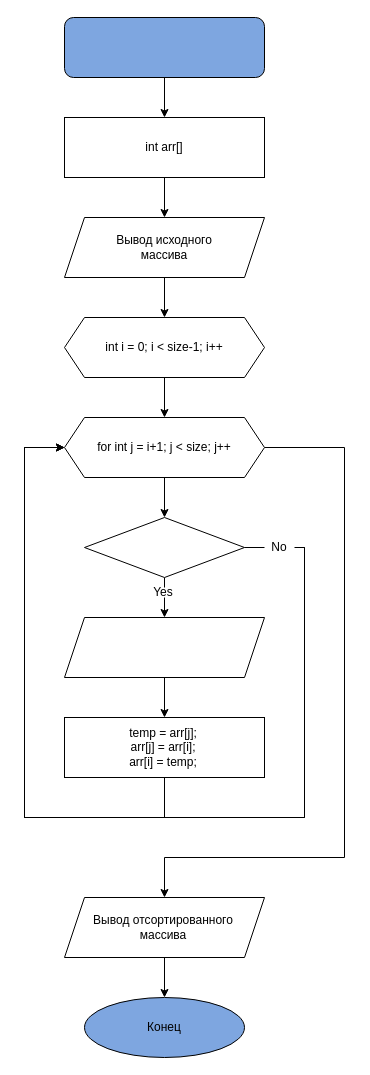
Some shapes in this 370 by 1075 pixel diagram are drawn without their labels. The centre of each missing label's shape, as x and y in pixels:
arr[j] < arr[i]: the point at 164,547
Вывод данной иттерации сортировки: the point at 164,647
Начало: the point at 164,47
